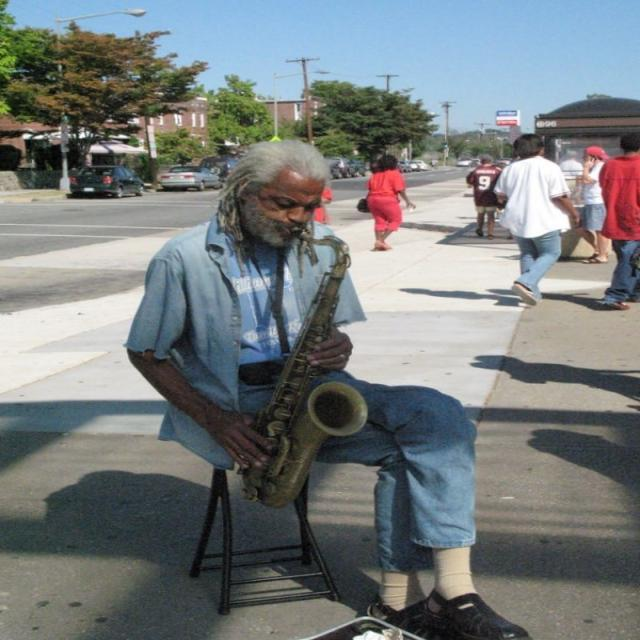saxophone: (236, 223, 373, 509)
